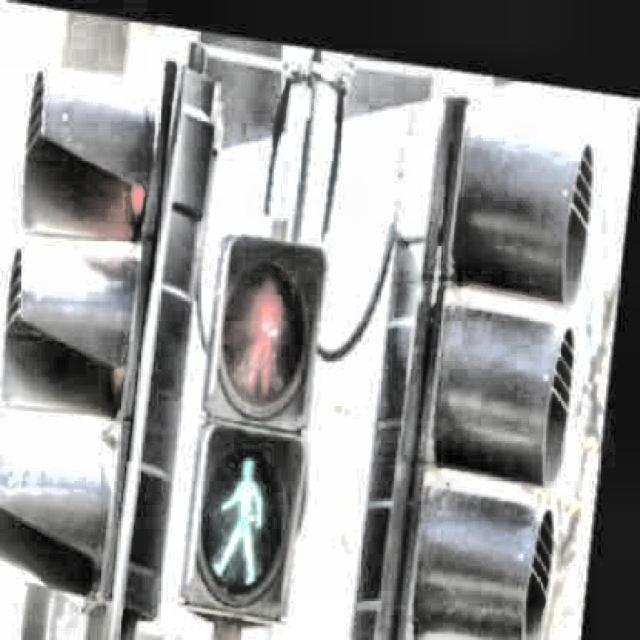semaforo pedestre: (140, 184, 394, 640)
